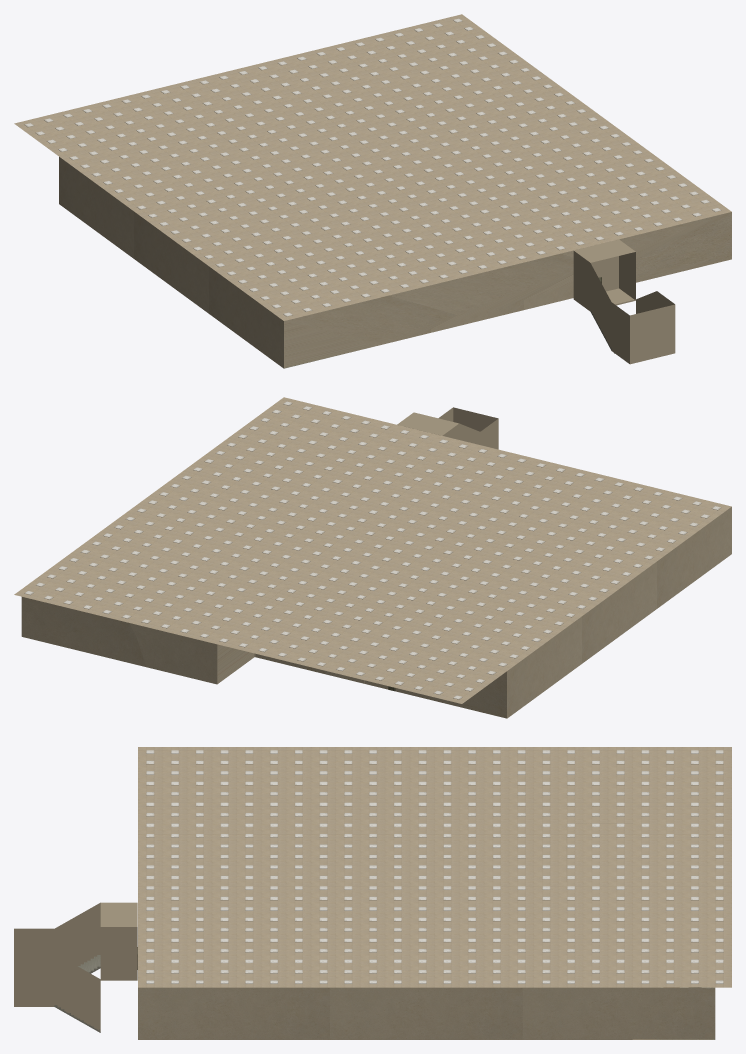
The model's file is office 1.fbx.
3 renders of one model, top to bottom at view 1: azimuth 30°, elevation 25°; view 2: azimuth 150°, elevation 25°; view 3: azimuth 270°, elevation 25°, orthographic. The views are drawn at different scales.
Visible parts, largest first — view 1: 天花板, 墙左, 墙前, Cube.112; view 2: 天花板, 墙右, 墙前, Cube.112; view 3: 天花板, 墙后, Cube.112.
Boxes of the visible parts, x1,y1,x2,y2 form: 天花板: (14, 14, 731, 320); 墙左: (284, 212, 731, 368); 墙前: (59, 157, 283, 368); Cube.112: (573, 239, 675, 364); 天花板: (14, 397, 731, 703); 墙右: (21, 597, 506, 718); 墙前: (507, 507, 731, 718); Cube.112: (397, 407, 498, 449); 天花板: (138, 747, 731, 987); 墙后: (138, 987, 715, 1039); Cube.112: (14, 902, 137, 1031).
Bounding box in the file's own units: 6900 × 1424 × 8702.
